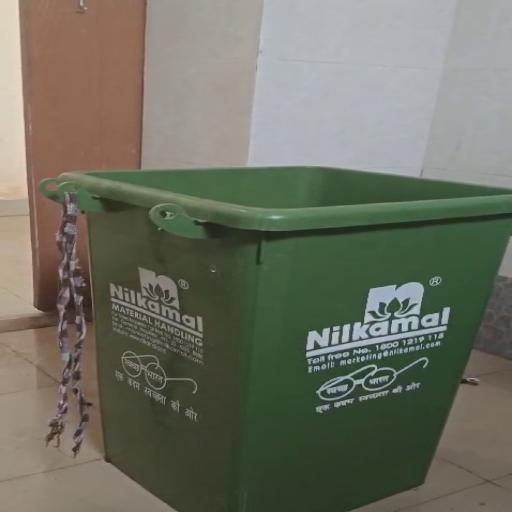Nilkamal-dustbin-detection: (43, 168, 511, 511)
